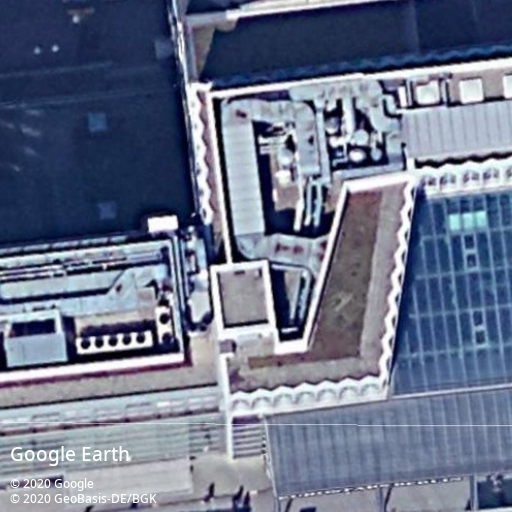Chiller: (75, 328, 154, 355), (154, 306, 175, 347)
